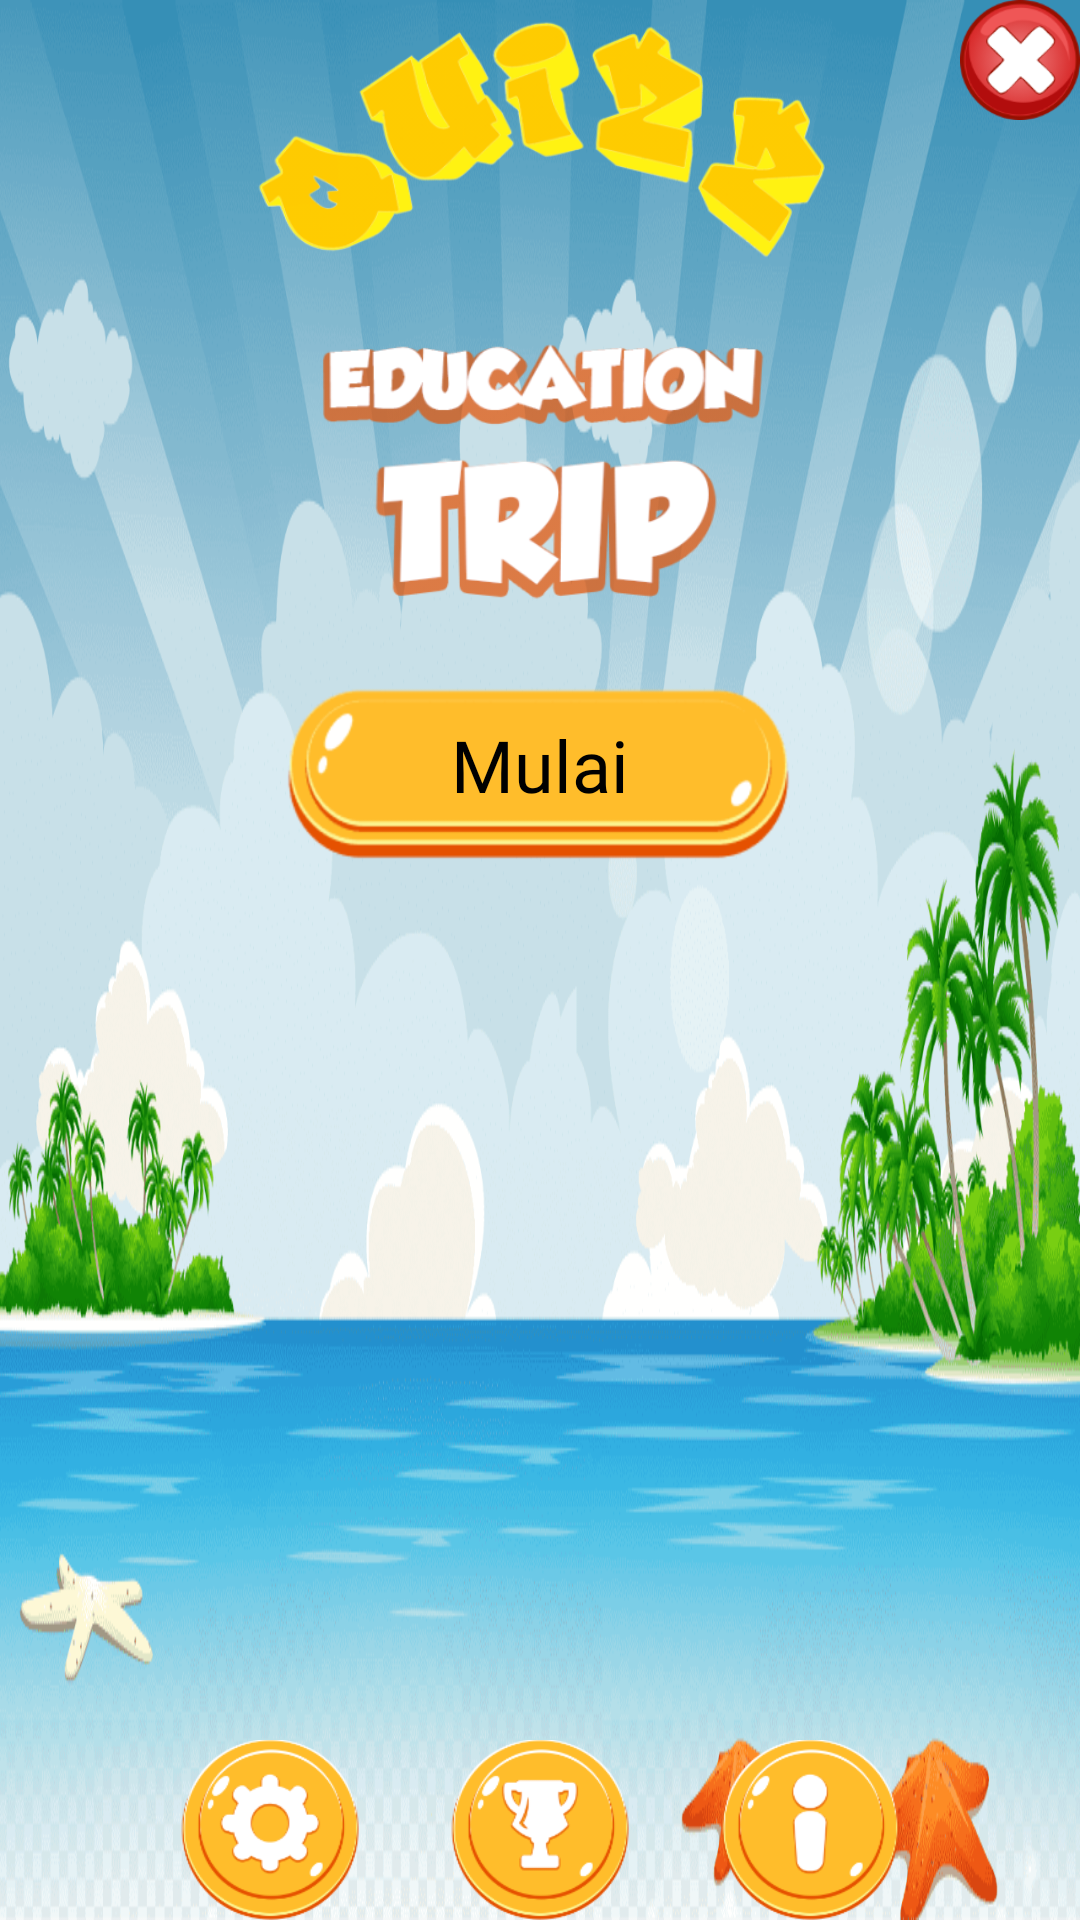

Named icons in this screenshot (1080px×1920px) and their centers, point (x, y):
highscore: point (540, 1830)
info: point (810, 1830)
settings: point (270, 1830)
